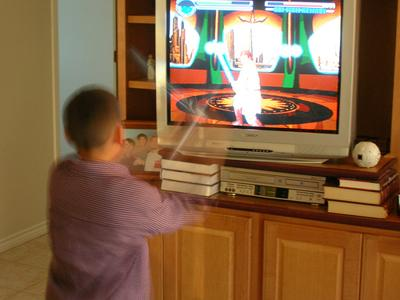person: (45, 89, 185, 299)
